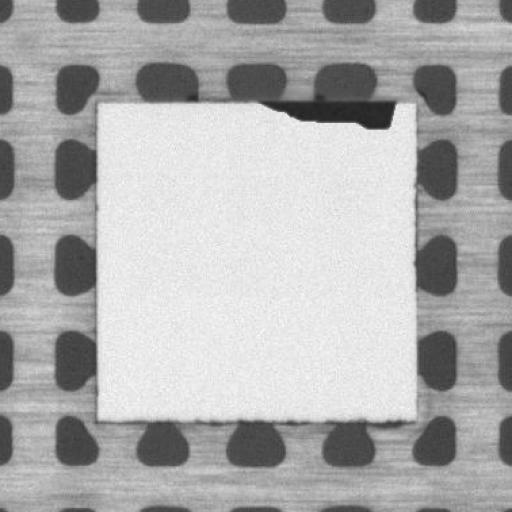DIE_BROKEN: (256, 96, 401, 130)
